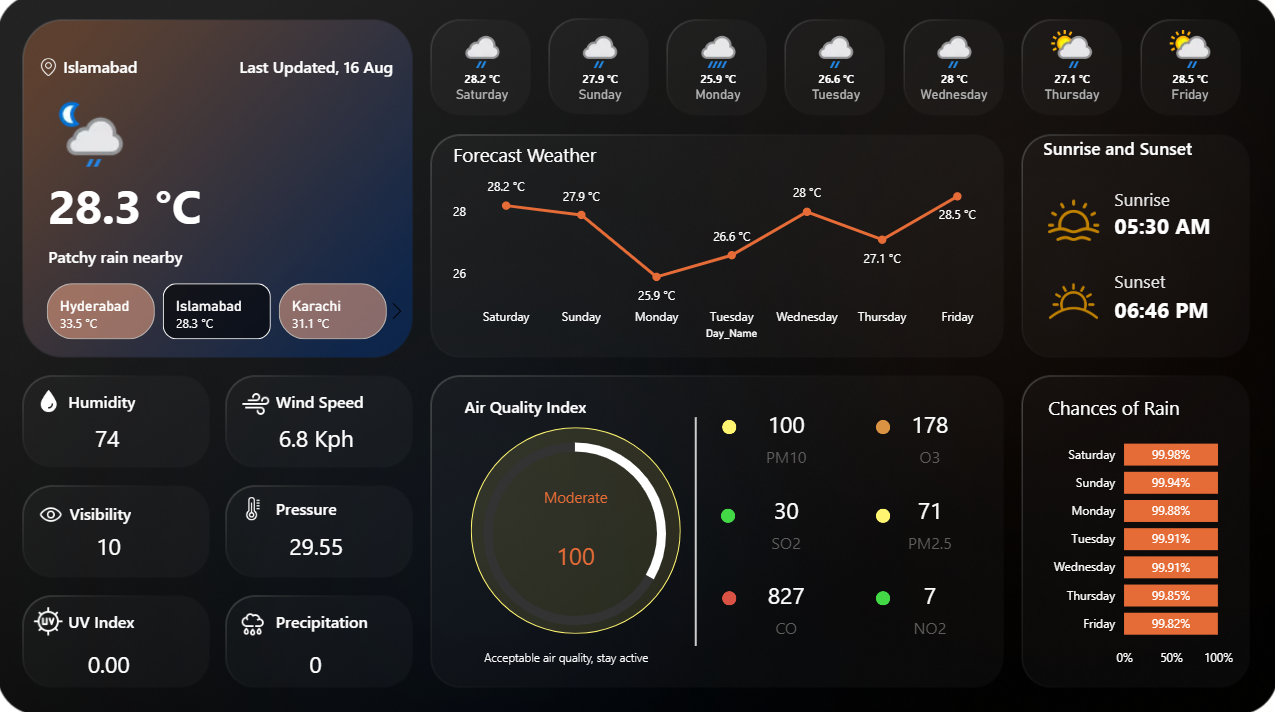

What the dashboard file says about the page in this screenshot:
{"tool":"powerbi","page":{"name":"WeatherAPI","canvas":[1280,720],"ordinal":0},"visuals":[{"type":"shape","box":[473.3,431.7,210,206.7],"z":500},{"type":"advancedSlicerVisual","fields":{"Values":["Locations.location.name"]},"box":[24.9,282.2,390,66.4],"z":1000},{"type":"shape","box":[51.4,177.1,175.7,61.4],"z":2000},{"type":"shape","box":[51.4,238.6,337.1,42.9],"z":3000},{"type":"shape","box":[65.7,48.6,161.4,42.9],"z":4000},{"type":"shape","box":[205.7,48.6,190,42.9],"z":5000},{"type":"image","box":[35.7,57.1,30,27.1],"z":6000},{"type":"cardVisual","fields":{"Data":["Min(Current.current.condition.icon)"]},"box":[35.7,84.3,111.4,92.9],"z":7000},{"type":"image","box":[31.4,388.6,40,32.9],"z":8000},{"type":"image","box":[35.7,494.3,35.7,50],"z":9000},{"type":"image","box":[31.4,604.3,40,42.9],"z":10000},{"type":"image","box":[238.6,388.6,40,38.6],"z":11000},{"type":"image","box":[232.9,610,45.7,37.1],"z":12000},{"type":"image","box":[238.6,495.7,34.3,32.9],"z":13000},{"type":"shape","box":[71.4,384.3,161.4,42.9],"z":14000},{"type":"shape","box":[278.6,384.3,161.4,42.9],"z":15000},{"type":"shape","box":[72.9,495.7,161.4,42.9],"z":16000},{"type":"shape","box":[278.6,491.4,161.4,42.9],"z":17000},{"type":"shape","box":[278.6,604.3,161.4,42.9],"z":18000},{"type":"shape","box":[71.4,604.3,161.4,42.9],"z":19000},{"type":"card","fields":{"Values":["Sum(Current.current.humidity)"]},"box":[51.4,421.4,118.6,45.7],"z":20000},{"type":"card","fields":{"Values":["Sum(Current.current.pressure_in)"]},"box":[260,528.6,118.6,45.7],"z":21000},{"type":"card","fields":{"Values":["Sum(Current.current.precip_in)"]},"box":[280,647.1,77.1,45.7],"z":22000},{"type":"card","fields":{"Values":["Sum(Current.current.vis_km)"]},"box":[52.9,528.6,118.6,45.7],"z":23000},{"type":"card","fields":{"Values":["Sum(Current.current.uv)"]},"box":[52.9,647.1,118.6,45.7],"z":24000},{"type":"card","fields":{"Values":["_Measures.Wind_Speed"]},"box":[260,421.4,118.6,45.7],"z":25000},{"type":"advancedSlicerVisual","fields":{"Values":["Forecast_Day.Day_Name"]},"box":[425,9,830,122],"z":26000},{"type":"lineChart","title":"Forecast Weather","fields":{"Y":["Sum(Forcast_Day.forecast.forecastday.day.avgtemp_c)"],"Category":["Forecast_Day.Day_Name"]},"box":[451.5,146.1,544.4,202.5],"z":27000},{"type":"shape","box":[1045.7,131.1,161,41.5],"z":28000},{"type":"shape","box":[1117,172.6,129.5,61.4],"z":29000},{"type":"shape","box":[1117,282.2,129.5,61.4],"z":30000},{"type":"shape","box":[1117,199.2,129.5,61.4],"z":31000},{"type":"shape","box":[1117,260.6,129.5,49.8],"z":32000},{"type":"image","box":[1033,268,88,75],"z":33000},{"type":"image","box":[1046,188,61,73],"z":34000},{"type":"hundredPercentStackedBarChart","title":"Chances of Rain","fields":{"Y":["Sum(Forcast_Hour.forecast.forecastday.hour.chance_of_rain)","_Measures.Left_Value_Rain"],"Category":["Forecast_Day.Day_Name"]},"box":[1046.1,399.3,195,281],"z":35000},{"type":"shape","box":[467.9,388.6,161.3,43],"z":36000},{"type":"card","fields":{"Values":["Sum(Current.current.air_quality.o3)"]},"box":[883,400,101.2,81.3],"z":37000},{"type":"card","fields":{"Values":["Sum(Current.current.air_quality.pm2_5)"]},"box":[883,486.3,101.2,81.3],"z":38000},{"type":"card","fields":{"Values":["Sum(Current.current.air_quality.no2)"]},"box":[883,571,101.2,81.3],"z":39000},{"type":"card","fields":{"Values":["Sum(Current.current.air_quality.pm10)"]},"box":[738.6,400,101.2,81.3],"z":40000},{"type":"card","fields":{"Values":["Sum(Current.current.air_quality.so2)"]},"box":[738.6,486.3,101.2,81.3],"z":41000},{"type":"card","fields":{"Values":["Sum(Current.current.air_quality.co)"]},"box":[738.6,571,101.2,81.3],"z":42000},{"type":"shape","box":[724.6,423.8,14.6,14.6],"z":43000},{"type":"shape","box":[723.8,512.3,14.6,14.6],"z":44000},{"type":"shape","box":[724.6,595.4,14.6,14.6],"z":45000},{"type":"shape","box":[878.5,423.8,14.6,14.6],"z":46000},{"type":"shape","box":[878.5,512.3,14.6,14.6],"z":47000},{"type":"shape","box":[878.5,595.4,14.6,14.6],"z":48000},{"type":"shape","box":[658.8,421.2,80,228.8],"z":49000},{"type":"card","fields":{"Values":["Sum(Current.current.air_quality.pm10)"]},"box":[508.3,491.7,140,120],"z":50000},{"type":"donutChart","fields":{"Y":["Sum(Current.current.air_quality.pm10)","_Measures.Left_Value_PM10"]},"box":[383.3,418.3,388.3,238.3],"z":51000},{"type":"shape","box":[440,640,258.3,41.7],"z":51001}]}

Visuals, with their boxes in screenshot pixels (x1, y1, x2, y2), scaled from the page's 1280x720 canvas onto the 1275x712 screenshot:
shape: x1=471, y1=427, x2=681, y2=631
advancedSlicerVisual - Locations.location.name: x1=25, y1=279, x2=413, y2=345
shape: x1=51, y1=175, x2=226, y2=236
shape: x1=51, y1=236, x2=387, y2=278
shape: x1=65, y1=48, x2=226, y2=90
shape: x1=205, y1=48, x2=394, y2=90
image: x1=36, y1=56, x2=65, y2=83
cardVisual - Min(Current.current.condition.icon): x1=36, y1=83, x2=147, y2=175
image: x1=31, y1=384, x2=71, y2=417
image: x1=36, y1=489, x2=71, y2=538
image: x1=31, y1=598, x2=71, y2=640
image: x1=238, y1=384, x2=278, y2=422
image: x1=232, y1=603, x2=278, y2=640
image: x1=238, y1=490, x2=272, y2=523
shape: x1=71, y1=380, x2=232, y2=422
shape: x1=278, y1=380, x2=438, y2=422
shape: x1=73, y1=490, x2=233, y2=533
shape: x1=278, y1=486, x2=438, y2=528
shape: x1=278, y1=598, x2=438, y2=640
shape: x1=71, y1=598, x2=232, y2=640
card - Sum(Current.current.humidity): x1=51, y1=417, x2=169, y2=462
card - Sum(Current.current.pressure_in): x1=259, y1=523, x2=377, y2=568
card - Sum(Current.current.precip_in): x1=279, y1=640, x2=356, y2=685
card - Sum(Current.current.vis_km): x1=53, y1=523, x2=171, y2=568
card - Sum(Current.current.uv): x1=53, y1=640, x2=171, y2=685
card - _Measures.Wind_Speed: x1=259, y1=417, x2=377, y2=462
advancedSlicerVisual - Forecast_Day.Day_Name: x1=423, y1=9, x2=1250, y2=130
"Forecast Weather" lineChart: x1=450, y1=144, x2=992, y2=345
shape: x1=1042, y1=130, x2=1202, y2=171
shape: x1=1113, y1=171, x2=1242, y2=231
shape: x1=1113, y1=279, x2=1242, y2=340
shape: x1=1113, y1=197, x2=1242, y2=258
shape: x1=1113, y1=258, x2=1242, y2=307
image: x1=1029, y1=265, x2=1117, y2=339
image: x1=1042, y1=186, x2=1103, y2=258
"Chances of Rain" hundredPercentStackedBarChart: x1=1042, y1=395, x2=1236, y2=673
shape: x1=466, y1=384, x2=627, y2=427
card - Sum(Current.current.air_quality.o3): x1=880, y1=396, x2=980, y2=476
card - Sum(Current.current.air_quality.pm2_5): x1=880, y1=481, x2=980, y2=561
card - Sum(Current.current.air_quality.no2): x1=880, y1=565, x2=980, y2=645
card - Sum(Current.current.air_quality.pm10): x1=736, y1=396, x2=837, y2=476
card - Sum(Current.current.air_quality.so2): x1=736, y1=481, x2=837, y2=561
card - Sum(Current.current.air_quality.co): x1=736, y1=565, x2=837, y2=645
shape: x1=722, y1=419, x2=736, y2=434
shape: x1=721, y1=507, x2=736, y2=521
shape: x1=722, y1=589, x2=736, y2=603
shape: x1=875, y1=419, x2=890, y2=434
shape: x1=875, y1=507, x2=890, y2=521
shape: x1=875, y1=589, x2=890, y2=603
shape: x1=656, y1=417, x2=736, y2=643
card - Sum(Current.current.air_quality.pm10): x1=506, y1=486, x2=646, y2=605
donutChart - Sum(Current.current.air_quality.pm10) x _Measures.Left_Value_PM10: x1=382, y1=414, x2=769, y2=649
shape: x1=438, y1=633, x2=696, y2=674
